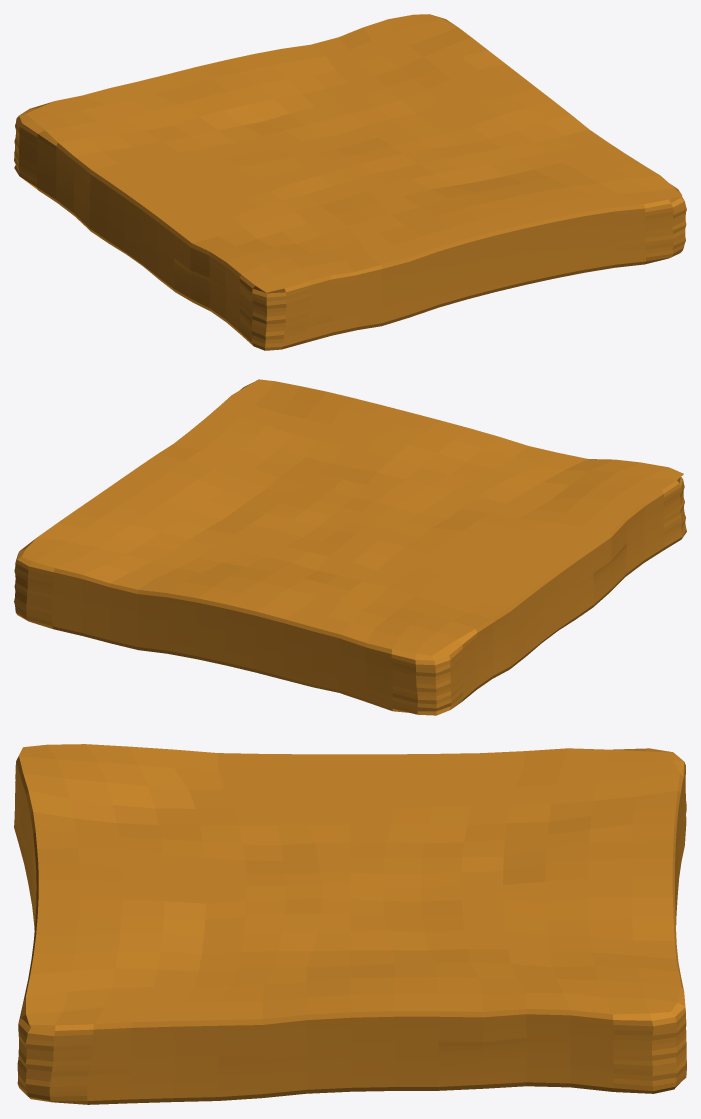
The model's file is bread.obj.
The picture shows the model from 3 angles, top to bottom: view 1: azimuth 30°, elevation 25°; view 2: azimuth 150°, elevation 25°; view 3: azimuth 270°, elevation 25°; orthographic projection. The views are drawn at different scales.
Visible parts, largest first — view 1: Bread_Cube.001; view 2: Bread_Cube.001; view 3: Bread_Cube.001.
Boxes of the visible parts, <box> form: Bread_Cube.001: <box>14,14,686,350</box>; Bread_Cube.001: <box>14,379,686,715</box>; Bread_Cube.001: <box>14,744,686,1104</box>.
Bounding box in the file's own units: 0.1409 × 0.0213 × 0.1439.
